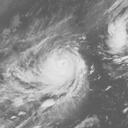cyclone: (10, 44, 85, 115)
